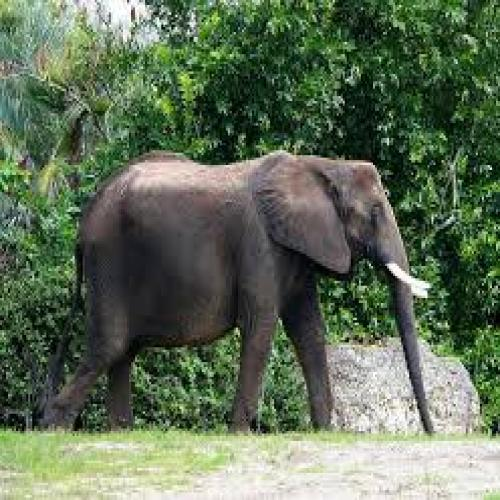asian_elephant-endangered: (41, 148, 436, 436)
